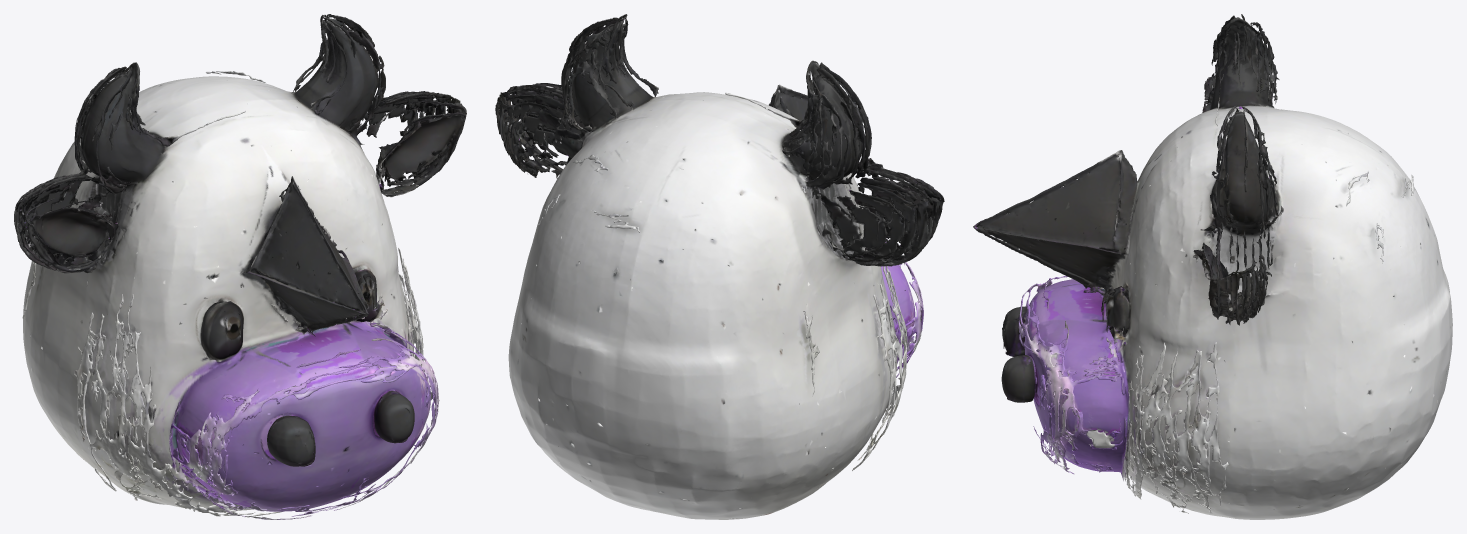
File: metaco.glb
3 renders of one model, left to right at view 1: azimuth 30°, elevation 25°; view 2: azimuth 150°, elevation 25°; view 3: azimuth 270°, elevation 25°, orthographic. The views are drawn at different scales.
Bounding box in the file's own units: 2 × 1.98 × 1.96.
Materials: 1 (1 with a texture image).
